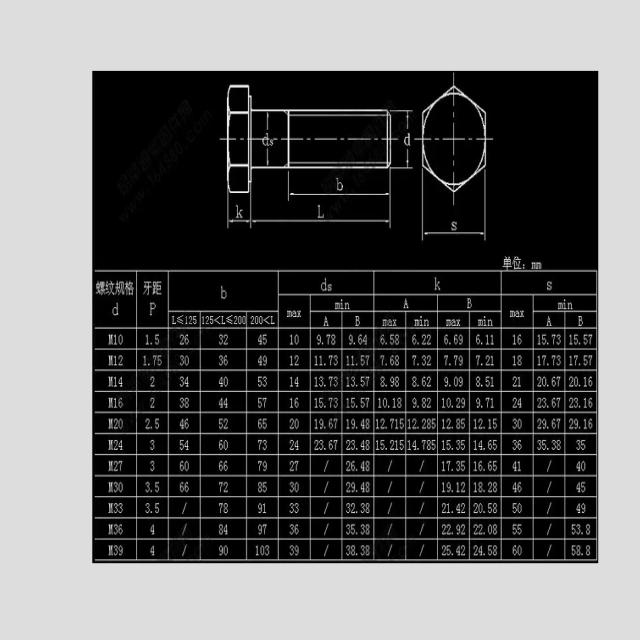marking_line: (226, 195, 397, 230), (248, 194, 395, 229), (285, 169, 392, 201), (419, 193, 487, 243), (392, 108, 414, 169), (264, 112, 271, 166)
numeric: (149, 396, 157, 409), (223, 417, 230, 430), (144, 417, 150, 431), (144, 480, 150, 494), (185, 396, 191, 410), (223, 481, 230, 493), (411, 374, 417, 388), (440, 544, 447, 556), (149, 439, 155, 452), (149, 544, 155, 557), (178, 333, 184, 346), (185, 374, 191, 387), (184, 459, 190, 472), (257, 375, 263, 388), (478, 544, 484, 557), (581, 438, 587, 451), (149, 524, 156, 535), (412, 352, 417, 367), (154, 333, 160, 345), (157, 354, 163, 366), (179, 396, 185, 408), (262, 481, 268, 493), (259, 544, 265, 556), (331, 334, 337, 346), (333, 355, 339, 367), (318, 376, 324, 388), (333, 397, 339, 409), (363, 333, 369, 345), (351, 418, 357, 430), (345, 439, 351, 451), (345, 481, 351, 493), (351, 502, 357, 514), (379, 354, 385, 366), (411, 334, 417, 346), (443, 354, 449, 366), (460, 418, 466, 430), (446, 460, 452, 472), (455, 523, 461, 535), (446, 544, 452, 556), (484, 354, 490, 366), (478, 417, 484, 429), (492, 439, 498, 451), (472, 523, 478, 535), (478, 502, 484, 514), (512, 460, 518, 472), (512, 544, 518, 556), (573, 376, 579, 388), (568, 417, 574, 429), (575, 482, 581, 494), (570, 544, 576, 556), (576, 544, 582, 556), (585, 545, 591, 557), (155, 481, 160, 495), (263, 374, 268, 388), (346, 375, 351, 389), (377, 395, 382, 409), (150, 376, 156, 387), (178, 355, 184, 366), (184, 439, 190, 450), (223, 334, 229, 345), (223, 376, 229, 387), (262, 419, 268, 430), (262, 460, 268, 471), (294, 355, 300, 366), (288, 545, 294, 556), (351, 440, 357, 451), (365, 460, 371, 471), (365, 545, 371, 556), (411, 398, 417, 409), (412, 439, 418, 450), (421, 355, 427, 366), (421, 398, 427, 409), (458, 335, 464, 346), (446, 418, 452, 429), (460, 439, 466, 450), (446, 524, 452, 535), (492, 545, 498, 556), (493, 503, 499, 514), (517, 334, 523, 345), (517, 398, 523, 409), (511, 524, 517, 535), (556, 334, 562, 345), (556, 355, 562, 366), (155, 501, 160, 514), (185, 353, 190, 366), (179, 375, 184, 388), (179, 459, 184, 472), (218, 459, 223, 472), (257, 417, 262, 430), (295, 417, 300, 430), (289, 417, 294, 430), (294, 459, 299, 472), (289, 523, 294, 536), (333, 439, 338, 452), (365, 417, 370, 430), (381, 418, 386, 431), (412, 417, 417, 430), (441, 502, 446, 515), (490, 396, 495, 409), (488, 459, 493, 472), (487, 544, 492, 557), (493, 481, 498, 494), (512, 375, 517, 388), (517, 417, 522, 430), (551, 333, 556, 346), (542, 354, 547, 367), (556, 396, 561, 409), (542, 418, 547, 431), (569, 354, 574, 367), (574, 417, 579, 430), (155, 418, 160, 430), (179, 418, 184, 430), (179, 439, 184, 451), (218, 333, 223, 345), (218, 354, 223, 366), (218, 397, 223, 409), (219, 418, 224, 430), (218, 438, 223, 450), (223, 439, 228, 451), (223, 460, 228, 472), (223, 502, 228, 514), (223, 545, 228, 557), (257, 334, 262, 346), (263, 334, 268, 346), (257, 460, 262, 472), (257, 481, 262, 493), (262, 523, 267, 535), (294, 376, 299, 388), (289, 439, 294, 451), (289, 481, 294, 493), (294, 481, 299, 493), (316, 334, 321, 346), (328, 375, 333, 387), (334, 375, 339, 387), (328, 439, 333, 451), (348, 333, 353, 345), (358, 333, 363, 345), (360, 354, 365, 366), (365, 354, 370, 366), (351, 376, 356, 388), (360, 376, 365, 388), (365, 375, 370, 387), (360, 396, 365, 408), (351, 481, 356, 493), (360, 482, 365, 494), (352, 523, 357, 535), (380, 334, 385, 346), (389, 334, 394, 346), (395, 333, 400, 345), (389, 354, 394, 366), (380, 376, 385, 388), (390, 376, 395, 388), (380, 438, 385, 450), (389, 440, 395, 450), (427, 375, 432, 387), (426, 439, 431, 451), (454, 334, 459, 346), (459, 354, 464, 366), (447, 397, 452, 409), (457, 397, 462, 409), (456, 418, 461, 430), (456, 439, 461, 451), (461, 502, 466, 514), (475, 354, 480, 366), (485, 376, 490, 388), (493, 416, 497, 431), (493, 460, 498, 472), (473, 544, 478, 556), (479, 523, 484, 535), (493, 524, 498, 536), (518, 355, 523, 367), (512, 397, 517, 409), (512, 439, 517, 451), (517, 440, 523, 450), (517, 460, 522, 472), (512, 481, 517, 493), (517, 481, 522, 493), (511, 503, 517, 513), (517, 545, 522, 557), (542, 334, 547, 346), (551, 354, 556, 366), (542, 376, 547, 388), (551, 375, 556, 387), (569, 376, 574, 388), (542, 397, 547, 409), (551, 396, 556, 408), (537, 418, 542, 430), (551, 439, 556, 451), (557, 438, 562, 450), (537, 439, 542, 451), (542, 439, 547, 451), (583, 334, 588, 346), (583, 355, 588, 367), (588, 375, 593, 387), (569, 397, 574, 409), (574, 397, 579, 409), (588, 397, 593, 409), (581, 460, 586, 472), (581, 481, 586, 493), (576, 502, 581, 514), (581, 502, 586, 514), (571, 523, 576, 535), (576, 524, 581, 536), (473, 501, 477, 515), (144, 334, 149, 345), (152, 355, 157, 366), (149, 460, 154, 471), (185, 334, 190, 345), (184, 418, 189, 429), (179, 482, 184, 493), (223, 355, 228, 366), (218, 376, 223, 387), (218, 524, 223, 535), (218, 546, 223, 557), (237, 315, 242, 326), (257, 355, 262, 366), (263, 355, 268, 366), (258, 397, 263, 408), (262, 397, 267, 408), (257, 440, 262, 451), (263, 439, 268, 450), (265, 545, 270, 556), (294, 334, 299, 345), (294, 397, 299, 408), (294, 440, 299, 451), (295, 524, 300, 535), (326, 334, 331, 345), (313, 355, 318, 366), (328, 355, 333, 366), (319, 397, 324, 408), (328, 398, 333, 409), (314, 440, 319, 451), (350, 355, 355, 366), (345, 398, 350, 409), (351, 397, 356, 408), (366, 397, 371, 408), (365, 482, 370, 493), (365, 503, 370, 514), (351, 545, 356, 556), (395, 376, 400, 387), (389, 418, 394, 429), (400, 440, 405, 451), (422, 334, 427, 345), (427, 354, 432, 365), (431, 418, 436, 429), (458, 376, 463, 387), (441, 397, 446, 408), (441, 482, 446, 493), (461, 481, 466, 492), (455, 502, 460, 513), (441, 524, 446, 535), (478, 439, 483, 450), (478, 460, 483, 471), (478, 482, 483, 493), (537, 397, 542, 408), (557, 418, 562, 429), (574, 334, 579, 345), (588, 355, 593, 366), (219, 501, 223, 514), (258, 523, 262, 536), (329, 417, 333, 430), (376, 417, 380, 430), (427, 334, 431, 347), (444, 333, 448, 346), (444, 375, 448, 388), (447, 502, 451, 515), (583, 375, 587, 388), (583, 397, 587, 410), (193, 315, 198, 325), (257, 503, 262, 513), (294, 503, 299, 513), (319, 440, 324, 450), (365, 440, 370, 450), (360, 524, 365, 534), (395, 355, 400, 365), (397, 398, 402, 408), (490, 355, 495, 365), (485, 398, 490, 408), (517, 503, 522, 513), (556, 376, 561, 386), (145, 502, 149, 514), (185, 481, 189, 493), (224, 524, 228, 536), (255, 544, 259, 556), (289, 334, 293, 346), (289, 355, 293, 367), (289, 376, 293, 388), (290, 397, 294, 409), (319, 354, 323, 366), (320, 418, 324, 430), (346, 418, 350, 430), (352, 459, 356, 471), (361, 459, 365, 471), (346, 502, 350, 514), (361, 502, 365, 514), (383, 397, 387, 409), (392, 397, 396, 409), (394, 418, 398, 430), (400, 418, 404, 430), (375, 439, 379, 451), (407, 418, 411, 430), (407, 439, 411, 451), (422, 376, 426, 388), (427, 397, 431, 409), (427, 418, 431, 430), (432, 439, 436, 451), (441, 418, 445, 430), (441, 439, 445, 451), (441, 460, 445, 472), (447, 481, 451, 493), (456, 545, 460, 557), (476, 334, 480, 346), (485, 334, 489, 346), (476, 376, 480, 388), (491, 376, 495, 388), (476, 396, 480, 408), (487, 418, 491, 430), (473, 419, 477, 431), (473, 439, 477, 451), (488, 439, 492, 451), (473, 460, 477, 472), (488, 523, 492, 535), (488, 502, 492, 514), (517, 376, 521, 388), (512, 418, 516, 430), (537, 334, 541, 346), (537, 354, 541, 366), (537, 375, 541, 387), (569, 334, 573, 346), (583, 418, 587, 430), (576, 439, 580, 451), (577, 461, 581, 473), (586, 523, 590, 535), (188, 315, 193, 324), (209, 316, 214, 325), (218, 482, 222, 493), (289, 503, 293, 514), (295, 545, 299, 556), (314, 376, 318, 387), (314, 419, 318, 430), (334, 418, 338, 429), (346, 355, 350, 366), (361, 418, 365, 429), (346, 460, 350, 471), (346, 524, 350, 535), (366, 524, 370, 535), (346, 545, 350, 556), (395, 440, 399, 451), (422, 418, 426, 429), (454, 355, 458, 366), (454, 376, 458, 387), (461, 398, 465, 409), (456, 460, 460, 471), (461, 460, 465, 471), (461, 524, 465, 535), (461, 545, 465, 556), (491, 335, 495, 346), (473, 482, 477, 493), (512, 334, 516, 345), (512, 355, 516, 366), (518, 523, 522, 534), (551, 418, 555, 429), (574, 355, 578, 366), (589, 418, 593, 429), (224, 398, 228, 408), (234, 315, 238, 325), (290, 461, 294, 471), (361, 440, 365, 450), (361, 545, 365, 555), (422, 440, 426, 450), (447, 440, 451, 450), (488, 482, 492, 492), (144, 354, 147, 366), (205, 316, 209, 325), (259, 315, 263, 324), (315, 397, 318, 408), (456, 482, 459, 493), (589, 334, 592, 345), (250, 316, 254, 324), (263, 503, 266, 513), (185, 316, 188, 325), (243, 316, 246, 325), (202, 315, 204, 324)
